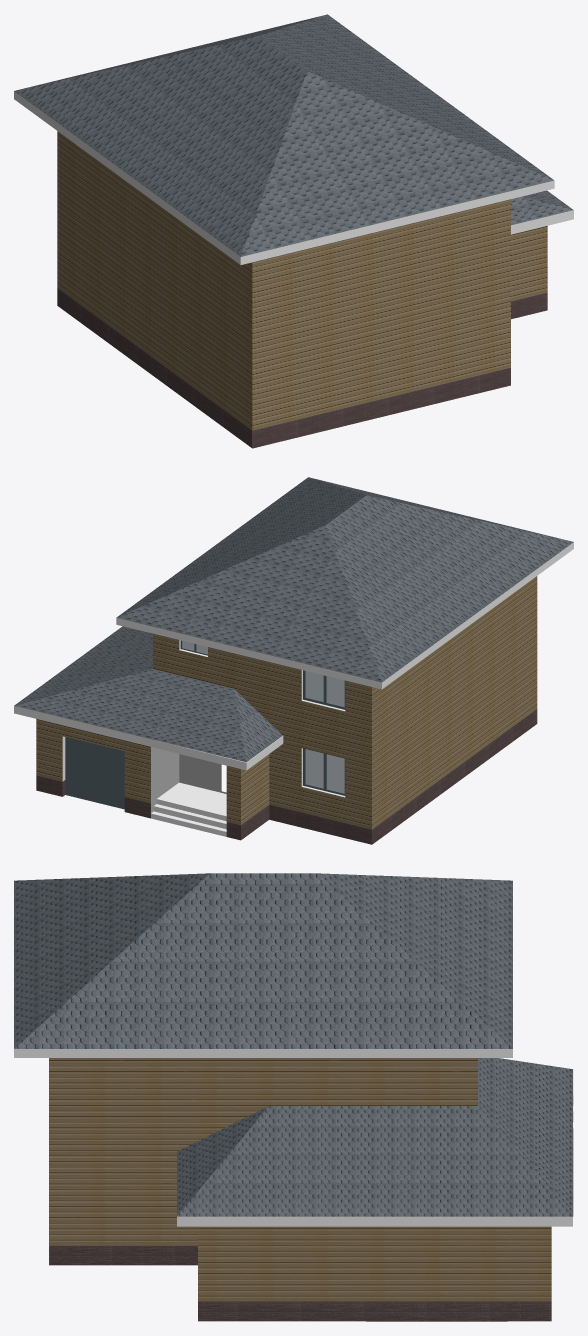
Rendered from HouseForSit4.glb.
The picture shows the model from 3 angles, top to bottom: view 1: azimuth 30°, elevation 25°; view 2: azimuth 150°, elevation 25°; view 3: azimuth 270°, elevation 25°; orthographic projection. The views are drawn at different scales.
Parts seen in each view (by area): view 1: Объект_Куб_1, Объект_Пирамида, Объект_Пирамида.1; view 2: Объект_Куб_1, Объект_Пирамида, Объект_Пирамида.1, Объект_Куб.1, Объект_Куб.1_1; view 3: Объект_Куб_1, Объект_Пирамида, Объект_Пирамида.1.
Boxes of the visible parts, x1=… form: Объект_Куб_1: x1=14, y1=91, x2=573, y2=448; Объект_Пирамида: x1=14, y1=14, x2=553, y2=256; Объект_Пирамида.1: x1=511, y1=190, x2=573, y2=225; Объект_Куб_1: x1=14, y1=542, x2=573, y2=844; Объект_Пирамида: x1=116, y1=477, x2=573, y2=682; Объект_Пирамида.1: x1=14, y1=626, x2=282, y2=762; Объект_Куб.1: x1=303, y1=748, x2=345, y2=795; Объект_Куб.1_1: x1=303, y1=670, x2=345, y2=709; Объект_Куб_1: x1=14, y1=1049, x2=573, y2=1321; Объект_Пирамида: x1=14, y1=873, x2=512, y2=1048; Объект_Пирамида.1: x1=177, y1=1058, x2=573, y2=1216.
Bounding box in the file's own units: 479 × 329 × 519.
8 materials, 3 textured.
